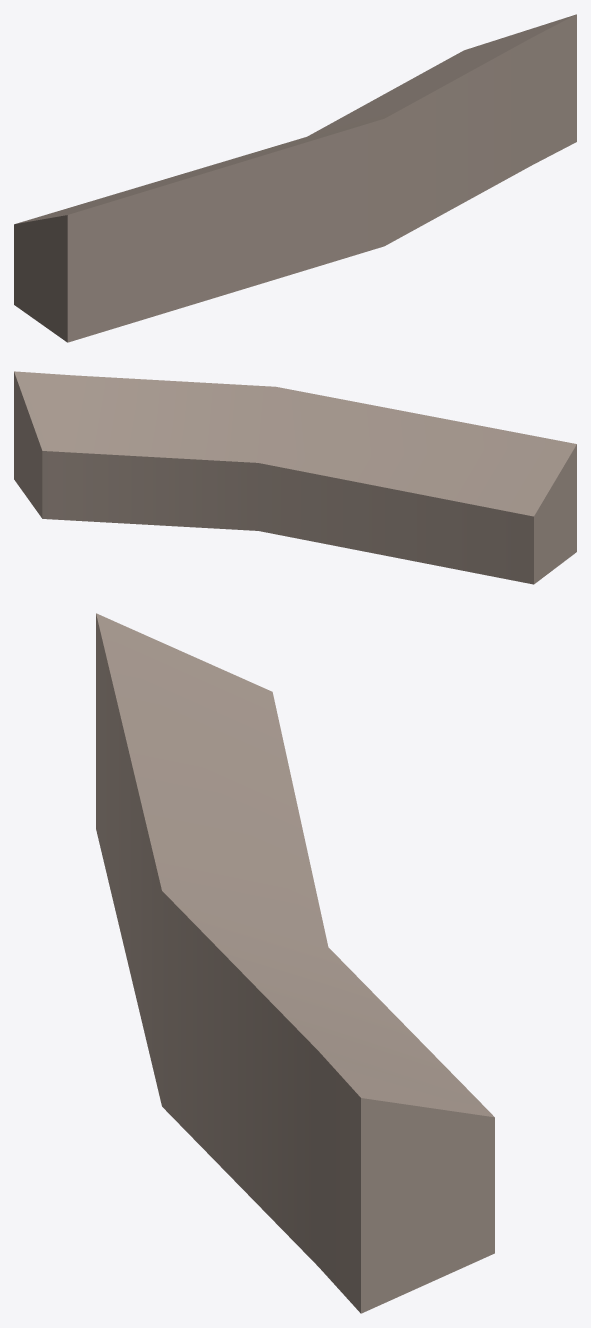
File: Building_Wall_5.fbx
3 renders of one model, top to bottom at view 1: azimuth 30°, elevation 25°; view 2: azimuth 150°, elevation 25°; view 3: azimuth 270°, elevation 25°, orthographic. The views are drawn at different scales.
Visible parts, largest first — view 1: pCube14; view 2: pCube14; view 3: pCube14.
Boxes of the visible parts, x1,y1,x2,y2 form: pCube14: [14, 14, 576, 342]; pCube14: [14, 371, 576, 584]; pCube14: [96, 613, 494, 1313].
Size of the model in its own units: 26.77 by 5.54 by 9.29.
